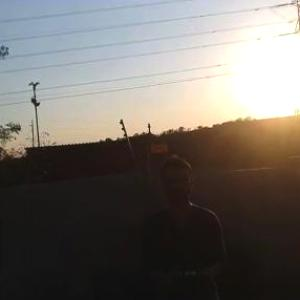follow: (142, 151, 240, 299)
